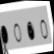correct: (24, 18, 37, 43)
no answer: (12, 21, 23, 44)
not correct: (0, 22, 13, 54)
